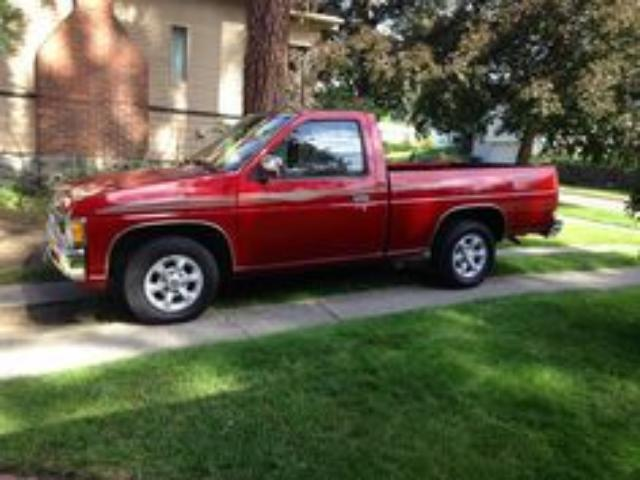pickup-truck: (41, 108, 564, 325)
